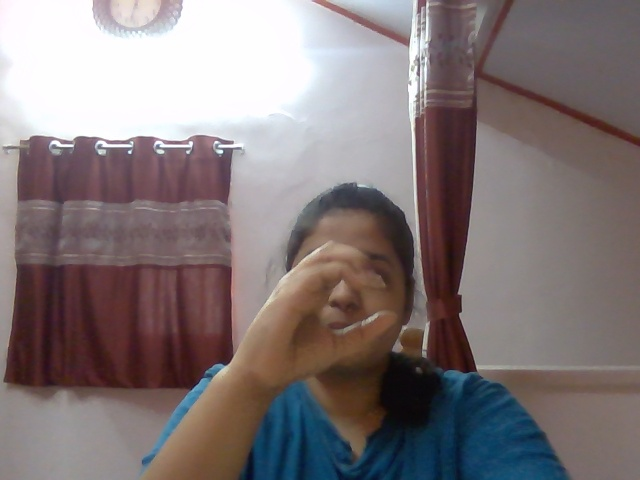c: (239, 226, 414, 376)
